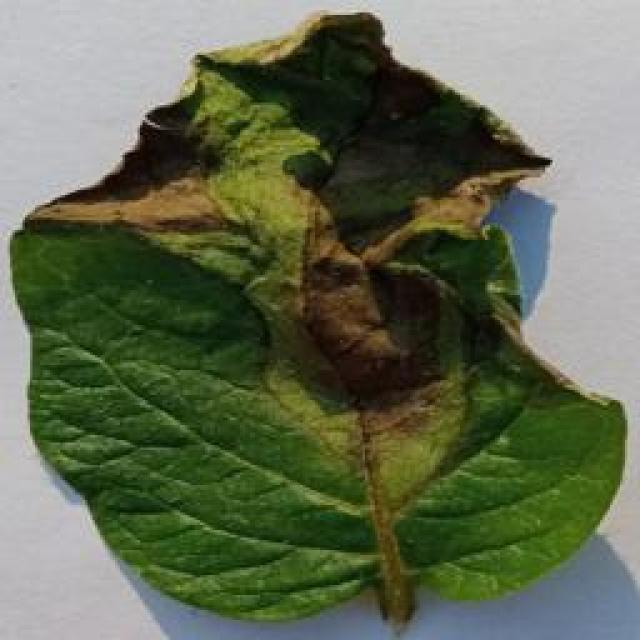Potato_Late_Blight: (14, 14, 615, 634)
